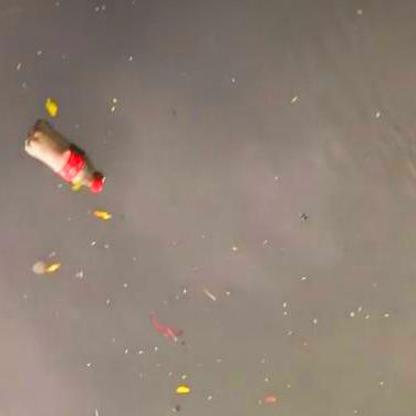plastic bottle: (24, 121, 104, 192)
